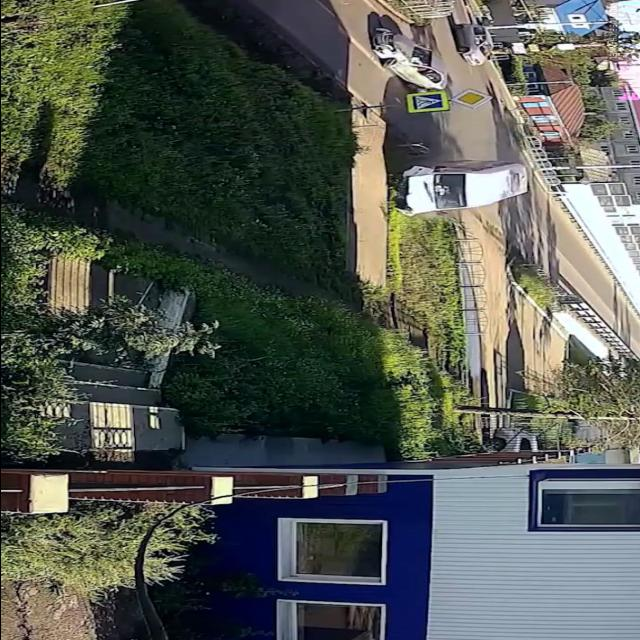accident: (379, 150, 533, 219), (364, 26, 452, 92)
